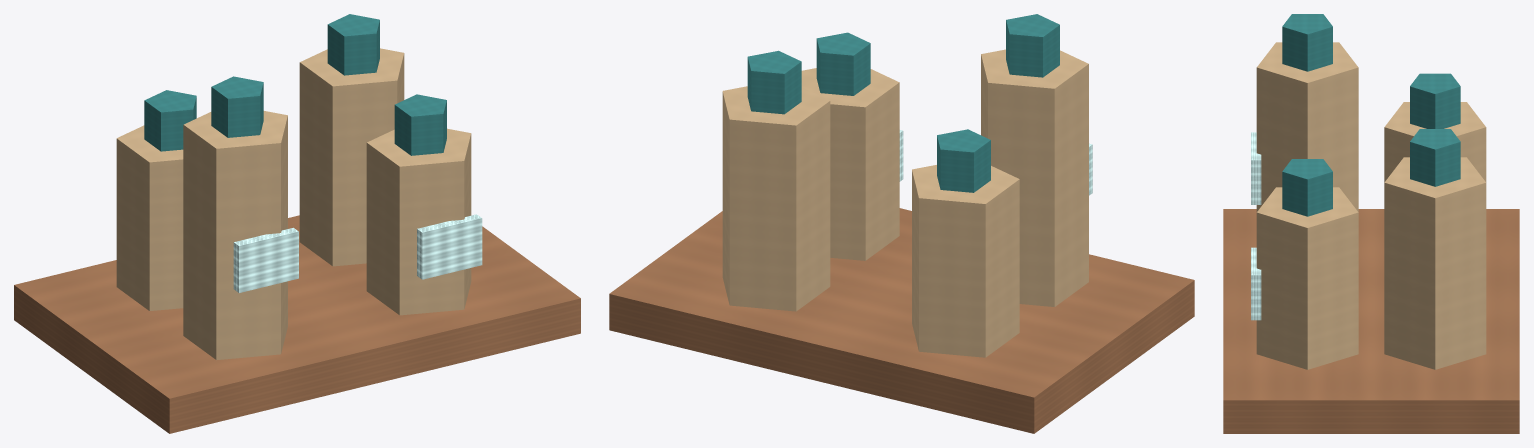
File: atlas100-s091-a04.lod1.glb
3 views of the same model, side by side, from view 1: azimuth 30°, elevation 25°; view 2: azimuth 150°, elevation 25°; view 3: azimuth 270°, elevation 25° (orthographic). The views are drawn at different scales.
Visible parts, largest first — view 1: atlas100-s091-a04:part-000, atlas100-s091-a04:part-007, atlas100-s091-a04:part-004, atlas100-s091-a04:part-010, atlas100-s091-a04:part-001, atlas100-s091-a04:part-012, atlas100-s091-a04:part-009, atlas100-s091-a04:part-005, atlas100-s091-a04:part-008, atlas100-s091-a04:part-011, atlas100-s091-a04:part-002; view 2: atlas100-s091-a04:part-000, atlas100-s091-a04:part-004, atlas100-s091-a04:part-007, atlas100-s091-a04:part-001, atlas100-s091-a04:part-010, atlas100-s091-a04:part-005, atlas100-s091-a04:part-011, atlas100-s091-a04:part-002, atlas100-s091-a04:part-008; view 3: atlas100-s091-a04:part-000, atlas100-s091-a04:part-004, atlas100-s091-a04:part-010, atlas100-s091-a04:part-007, atlas100-s091-a04:part-001, atlas100-s091-a04:part-005, atlas100-s091-a04:part-011, atlas100-s091-a04:part-008, atlas100-s091-a04:part-002, atlas100-s091-a04:part-012, atlas100-s091-a04:part-009.
Part boxes in pixels (x1,y1,x2,y2): atlas100-s091-a04:part-000: (14, 215, 580, 433); atlas100-s091-a04:part-007: (183, 111, 287, 360); atlas100-s091-a04:part-004: (299, 48, 404, 266); atlas100-s091-a04:part-010: (366, 128, 471, 315); atlas100-s091-a04:part-001: (116, 125, 183, 310); atlas100-s091-a04:part-012: (417, 214, 482, 279); atlas100-s091-a04:part-009: (233, 227, 298, 292); atlas100-s091-a04:part-005: (327, 14, 379, 75); atlas100-s091-a04:part-008: (211, 76, 263, 137); atlas100-s091-a04:part-011: (394, 94, 446, 155); atlas100-s091-a04:part-002: (144, 90, 196, 151); atlas100-s091-a04:part-000: (609, 208, 1194, 433); atlas100-s091-a04:part-004: (722, 86, 830, 311); atlas100-s091-a04:part-007: (981, 49, 1088, 306); atlas100-s091-a04:part-001: (912, 165, 1019, 357); atlas100-s091-a04:part-010: (801, 68, 899, 260); atlas100-s091-a04:part-005: (747, 50, 801, 114); atlas100-s091-a04:part-011: (816, 32, 870, 95); atlas100-s091-a04:part-002: (937, 129, 990, 192); atlas100-s091-a04:part-008: (1006, 14, 1059, 77); atlas100-s091-a04:part-000: (1223, 209, 1519, 433); atlas100-s091-a04:part-004: (1384, 157, 1486, 369); atlas100-s091-a04:part-010: (1256, 187, 1358, 369); atlas100-s091-a04:part-007: (1256, 42, 1358, 211); atlas100-s091-a04:part-001: (1384, 102, 1486, 182); atlas100-s091-a04:part-005: (1410, 129, 1460, 186); atlas100-s091-a04:part-011: (1282, 159, 1332, 216); atlas100-s091-a04:part-008: (1282, 14, 1332, 71); atlas100-s091-a04:part-002: (1410, 73, 1460, 128); atlas100-s091-a04:part-012: (1251, 247, 1261, 320); atlas100-s091-a04:part-009: (1251, 132, 1261, 204).
Size of the model in its own units: 1.18 by 0.7804 by 0.7697.
Materials: 4 (4 with a texture image).
